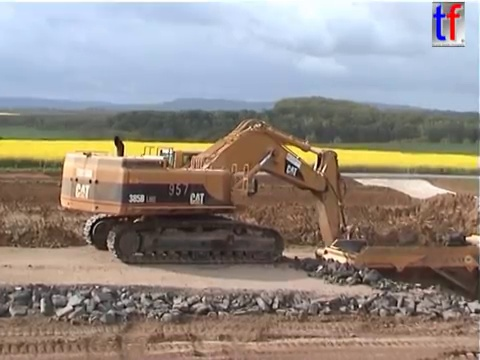excavator: (57, 115, 371, 300)
truck: (311, 232, 480, 331)
